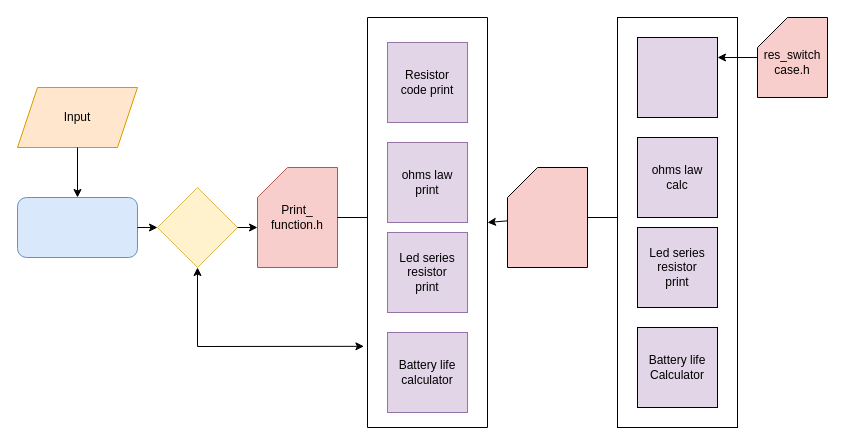
This 845x445 diagram has some shape labels left out. The shapes that lost their labels are listed below. From the top down, each one's centre as x and y in pixels, then its label:
the point at 677,77: Resistor code calc
the point at 77,227: Start
the point at 197,227: Main file
the point at 547,217: Calc_ function.h
